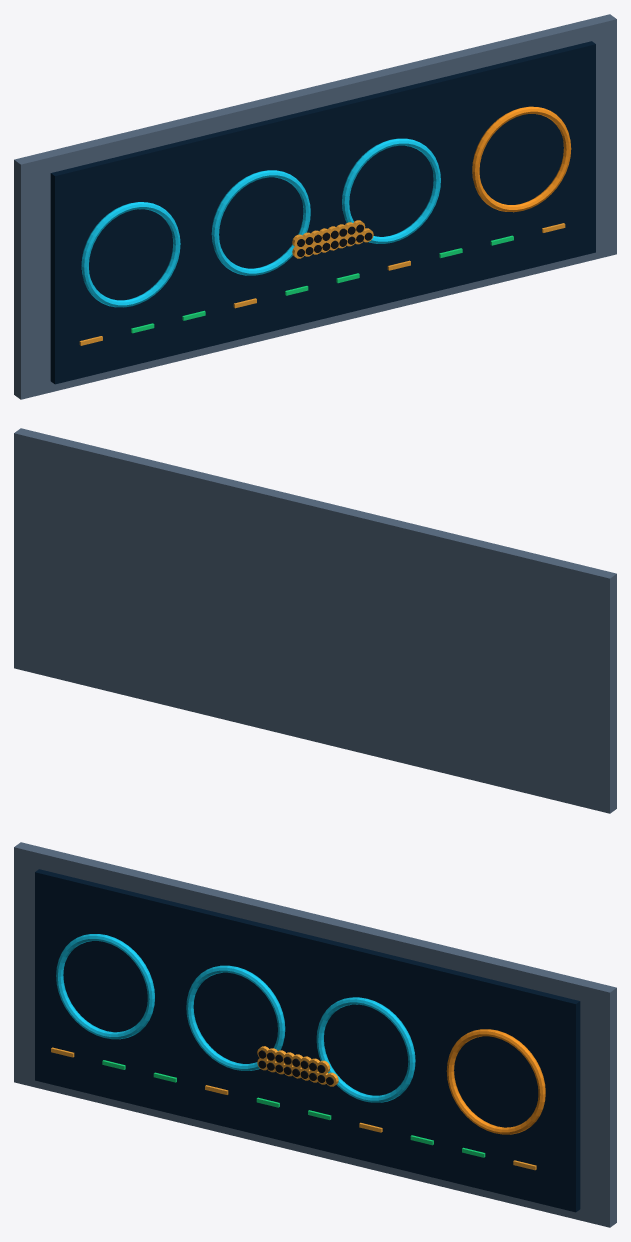
Rendered from 82_L88_HabitatEnvironmentalSCADA.fbx.
3 views of the same model, one above another, from view 1: azimuth 30°, elevation 25°; view 2: azimuth 150°, elevation 25°; view 3: azimuth 330°, elevation 25° (orthographic).
Parts seen in each view (by area): view 1: L87_HabitatEnvironmentalSCADA_Part_0001, L87_HabitatEnvironmentalSCADA_Part_0000, L87_HabitatEnvironmentalSCADA_Part_0002, L87_HabitatEnvironmentalSCADA_Part_0003, L87_HabitatEnvironmentalSCADA_Part_0005, L87_HabitatEnvironmentalSCADA_Part_0004; view 2: L87_HabitatEnvironmentalSCADA_Part_0000; view 3: L87_HabitatEnvironmentalSCADA_Part_0001, L87_HabitatEnvironmentalSCADA_Part_0000, L87_HabitatEnvironmentalSCADA_Part_0002, L87_HabitatEnvironmentalSCADA_Part_0003, L87_HabitatEnvironmentalSCADA_Part_0005, L87_HabitatEnvironmentalSCADA_Part_0004.
Part boxes in pixels (<box>): L87_HabitatEnvironmentalSCADA_Part_0001: <box>50,41,595,384</box>; L87_HabitatEnvironmentalSCADA_Part_0000: <box>14,14,616,399</box>; L87_HabitatEnvironmentalSCADA_Part_0002: <box>81,138,440,307</box>; L87_HabitatEnvironmentalSCADA_Part_0003: <box>472,106,571,212</box>; L87_HabitatEnvironmentalSCADA_Part_0005: <box>131,235,513,333</box>; L87_HabitatEnvironmentalSCADA_Part_0004: <box>79,223,565,345</box>; L87_HabitatEnvironmentalSCADA_Part_0000: <box>14,428,616,813</box>; L87_HabitatEnvironmentalSCADA_Part_0001: <box>35,869,580,1212</box>; L87_HabitatEnvironmentalSCADA_Part_0000: <box>14,842,616,1227</box>; L87_HabitatEnvironmentalSCADA_Part_0002: <box>56,934,415,1102</box>; L87_HabitatEnvironmentalSCADA_Part_0003: <box>446,1029,545,1134</box>; L87_HabitatEnvironmentalSCADA_Part_0005: <box>102,1060,485,1157</box>; L87_HabitatEnvironmentalSCADA_Part_0004: <box>51,1047,536,1170</box>.
Bounding box in the file's own units: 650 × 245 × 43.7.
